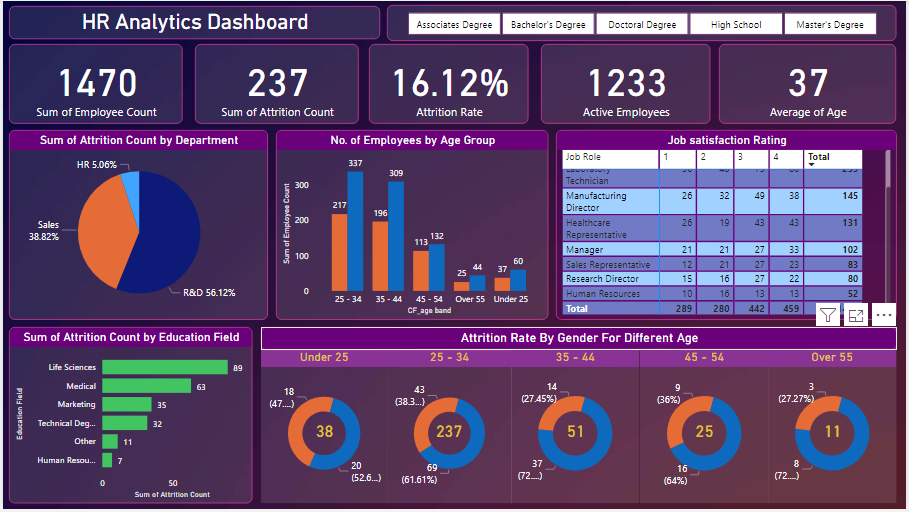

The dashboard page shown, as its layout file describes it:
{"tool":"powerbi","page":{"name":"Page 1","canvas":[1280,720],"ordinal":0},"visuals":[{"type":"card","fields":{"Values":["Sum(Table_1.Employee Count)"]},"box":[9,60.3,246.2,112.8],"z":0},{"type":"card","fields":{"Values":["Sum(Table_1.Attrition Count)"]},"box":[271.8,60.3,232.1,112.8],"z":1000},{"type":"card","fields":{"Values":["Table_1.Attrition Rate"]},"box":[519.2,60.3,225.6,112.8],"z":2000},{"type":"card","fields":{"Values":["Table_1.Active Employees"]},"box":[762.8,60.3,239.7,112.8],"z":3000},{"type":"card","fields":{"Values":["Avg(Table_1.Age)"]},"box":[1015.4,60.3,251.3,112.8],"z":4000},{"type":"clusteredColumnChart","title":"No. of Employees by Age Group","fields":{"Category":["Table_1.CF_age band"],"Y":["Sum(Table_1.Employee Count)"],"Series":["Table_1.Gender"]},"box":[387.2,183.3,385.9,269.2],"z":5000},{"type":"pieChart","fields":{"Y":["Sum(Table_1.Attrition Count)"],"Category":["Table_1.Department"]},"box":[9,183.3,366.7,269.2],"z":6000},{"type":"clusteredBarChart","fields":{"Category":["Table_1.Education Field"],"Y":["Sum(Table_1.Attrition Count)"]},"box":[9,461.5,344.9,250],"z":7000},{"type":"pivotTable","title":"Job satisfaction Rating","fields":{"Rows":["Table_1.Job Role"],"Values":["Sum(Table_1.Employee Count)"],"Columns":["Table_1.Job Satisfaction"]},"box":[783.3,183.3,483.3,269.2],"z":8000},{"type":"donutChart","title":"Under 25 ","fields":{"Category":["Table_1.Gender"],"Y":["Sum(Table_1.Attrition Count)"],"Series":["Table_1.CF_age band"]},"box":[365.4,494.9,179.5,216.7],"z":9000},{"type":"donutChart","title":"25 - 34","fields":{"Category":["Table_1.Gender"],"Y":["Sum(Table_1.Attrition Count)"],"Series":["Table_1.CF_age band"]},"box":[543.6,494.9,176.9,216.7],"z":10000},{"type":"donutChart","title":"Attrition Rate By Gender For Different Age","fields":{"Category":["Table_1.Gender"],"Y":["Sum(Table_1.Attrition Count)"],"Series":["Table_1.CF_age band"]},"box":[365.4,461.5,901.3,33.3],"z":11000},{"type":"donutChart","title":"35 -  44","fields":{"Category":["Table_1.Gender"],"Y":["Sum(Table_1.Attrition Count)"],"Series":["Table_1.CF_age band"]},"box":[720.5,494.9,182.1,216.7],"z":12000},{"type":"donutChart","title":"45 - 54","fields":{"Category":["Table_1.Gender"],"Y":["Sum(Table_1.Attrition Count)"],"Series":["Table_1.CF_age band"]},"box":[902.6,494.9,182.1,216.7],"z":13000},{"type":"donutChart","title":"Over 55","fields":{"Category":["Table_1.Gender"],"Y":["Sum(Table_1.Attrition Count)"],"Series":["Table_1.CF_age band"]},"box":[1084.6,494.9,182.1,216.7],"z":14000},{"type":"card","fields":{"Values":["Sum(Table_1.Attrition Count)"]},"box":[433.3,587.2,43.6,46.2],"z":15000},{"type":"card","fields":{"Values":["Sum(Table_1.Attrition Count)"]},"box":[601.3,587.2,61.5,46.2],"z":16000},{"type":"card","fields":{"Values":["Sum(Table_1.Attrition Count)"]},"box":[789.7,587.2,43.6,46.2],"z":17000},{"type":"card","fields":{"Values":["Sum(Table_1.Attrition Count)"]},"box":[971.8,587.2,43.6,46.2],"z":18000},{"type":"card","fields":{"Values":["Sum(Table_1.Attrition Count)"]},"box":[1153.8,587.2,43.6,46.2],"z":19000},{"type":"textbox","title":"HR Analytics Dashboard","box":[9,5.1,525.6,47.4],"z":20000},{"type":"slicer","fields":{"Values":["Table_1.Education"]},"box":[544.9,5.1,721.8,51.3],"z":20001}]}

Visuals, with their boxes in screenshot pixels (x1, y1, x2, y2), scaled from the page's 1280x720 canvas onto the 909x512 screenshot:
card - Sum(Table_1.Employee Count): [x1=6, y1=43, x2=181, y2=123]
card - Sum(Table_1.Attrition Count): [x1=193, y1=43, x2=358, y2=123]
card - Table_1.Attrition Rate: [x1=369, y1=43, x2=529, y2=123]
card - Table_1.Active Employees: [x1=542, y1=43, x2=712, y2=123]
card - Avg(Table_1.Age): [x1=721, y1=43, x2=900, y2=123]
"No. of Employees by Age Group" clusteredColumnChart: [x1=275, y1=130, x2=549, y2=322]
pieChart - Sum(Table_1.Attrition Count) x Table_1.Department: [x1=6, y1=130, x2=267, y2=322]
clusteredBarChart - Table_1.Education Field x Sum(Table_1.Attrition Count): [x1=6, y1=328, x2=251, y2=506]
"Job satisfaction Rating" pivotTable: [x1=556, y1=130, x2=899, y2=322]
"Under 25 " donutChart: [x1=259, y1=352, x2=387, y2=506]
"25 - 34" donutChart: [x1=386, y1=352, x2=512, y2=506]
"Attrition Rate By Gender For Different Age" donutChart: [x1=259, y1=328, x2=900, y2=352]
"35 -  44" donutChart: [x1=512, y1=352, x2=641, y2=506]
"45 - 54" donutChart: [x1=641, y1=352, x2=770, y2=506]
"Over 55" donutChart: [x1=770, y1=352, x2=900, y2=506]
card - Sum(Table_1.Attrition Count): [x1=308, y1=418, x2=339, y2=450]
card - Sum(Table_1.Attrition Count): [x1=427, y1=418, x2=471, y2=450]
card - Sum(Table_1.Attrition Count): [x1=561, y1=418, x2=592, y2=450]
card - Sum(Table_1.Attrition Count): [x1=690, y1=418, x2=721, y2=450]
card - Sum(Table_1.Attrition Count): [x1=819, y1=418, x2=850, y2=450]
"HR Analytics Dashboard" textbox: [x1=6, y1=4, x2=380, y2=37]
slicer - Table_1.Education: [x1=387, y1=4, x2=900, y2=40]
